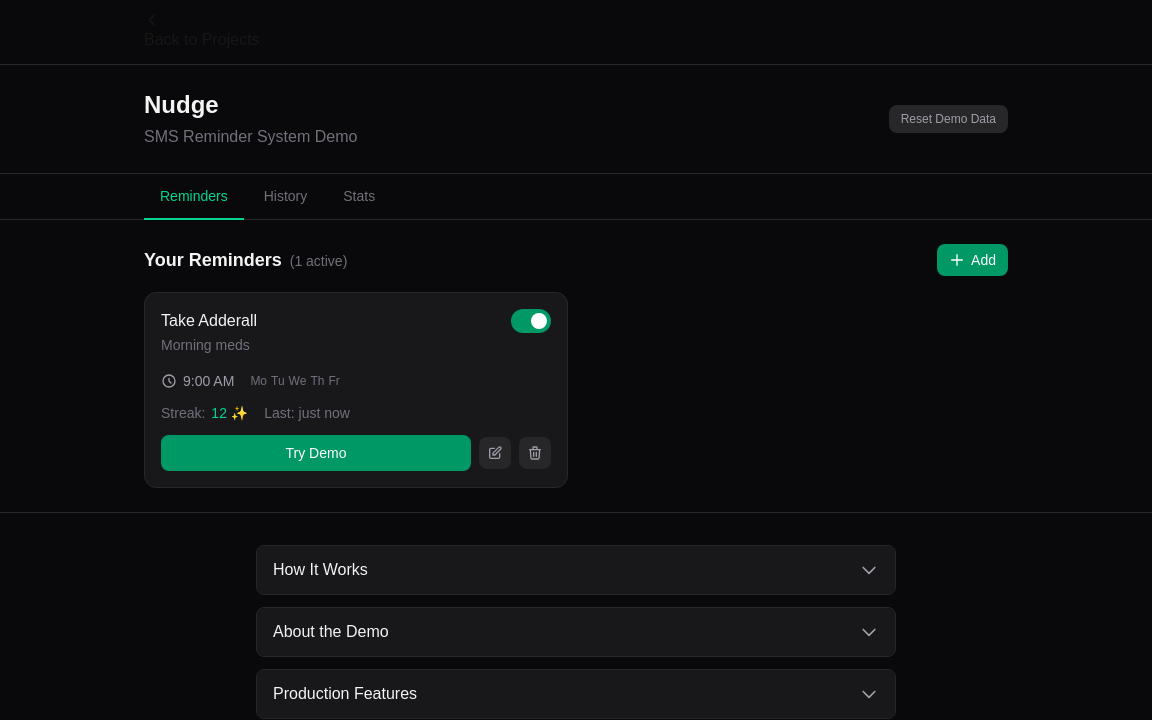
Test: NudgeDemoPage › switches to history tab when clicked
The width and height of the screenshot is (1152, 720).
Click the button "history" at (286, 197), box x1=248 y1=174 x2=323 y2=220
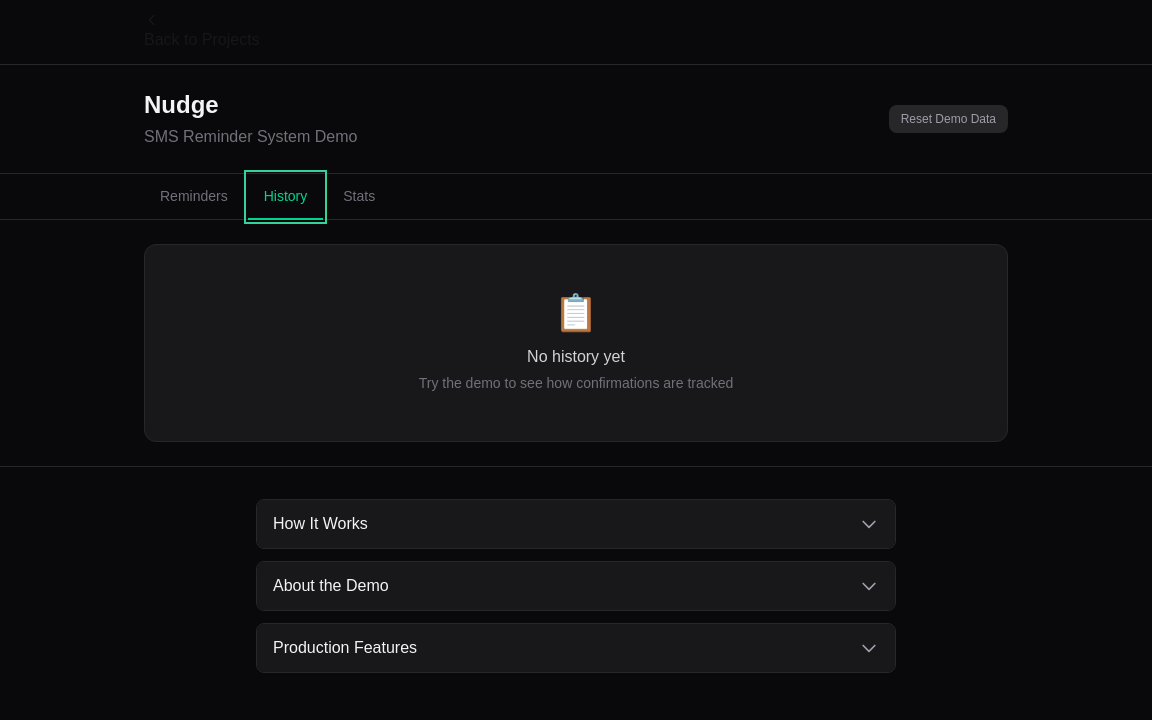
Now the heading "No history yet" is shown, box x1=527 y1=348 x2=625 y2=365
